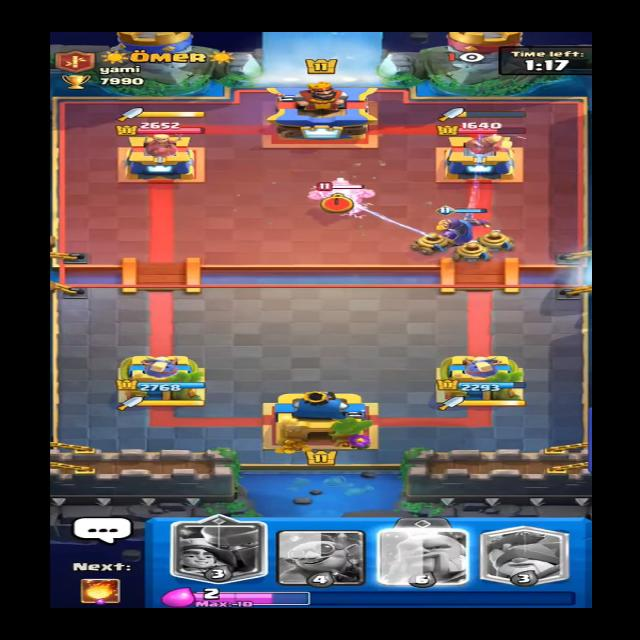Monk: (303, 177, 383, 217)
